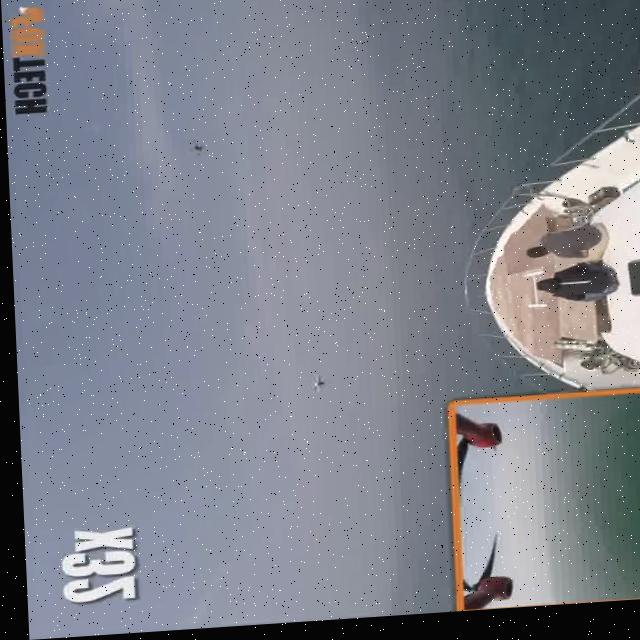drone: (293, 370, 331, 402), (172, 140, 209, 163)
